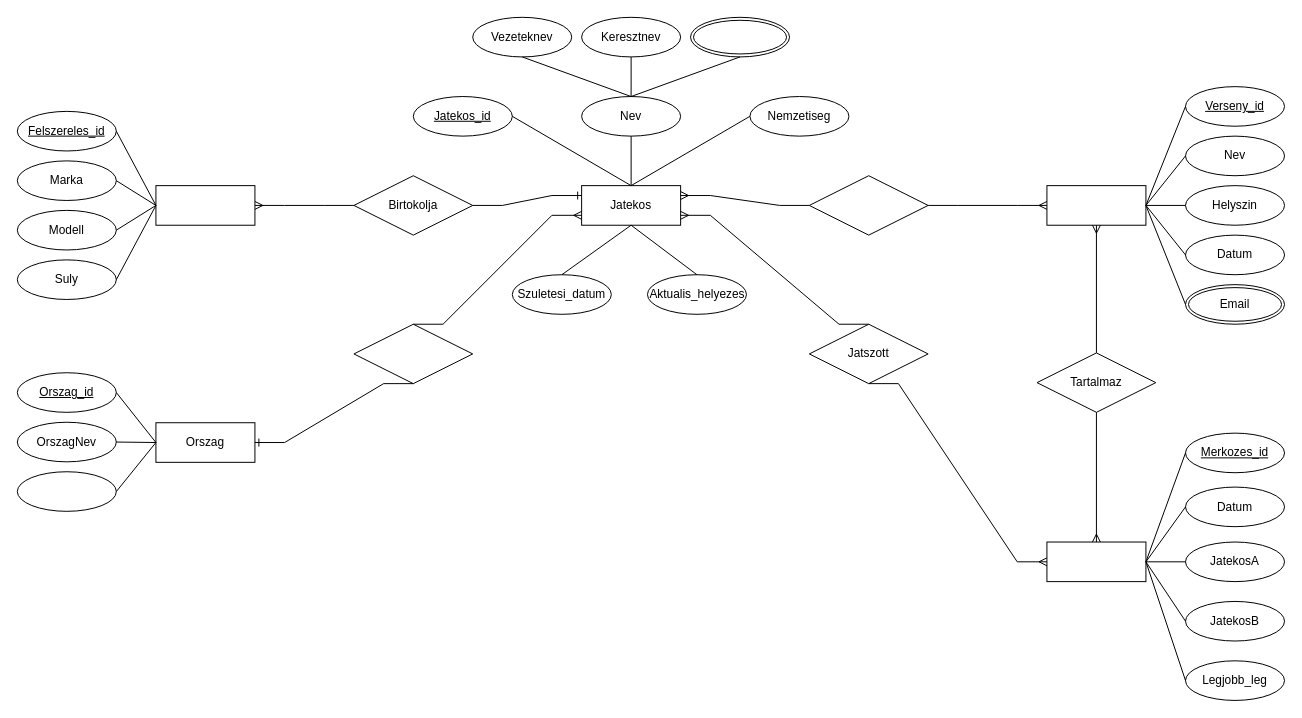
This 1302x718 diagram has some shape labels left out. The centre of each missing label's shape, as x and y in pixels:
Becenev: the point at 740,36
Felszereles: the point at 205,205
Merkozes: the point at 1096,561
OrszagKod: the point at 66,491
Resztvesz: the point at 868,205
Szarmazik: the point at 413,353
Verseny: the point at 1096,205
